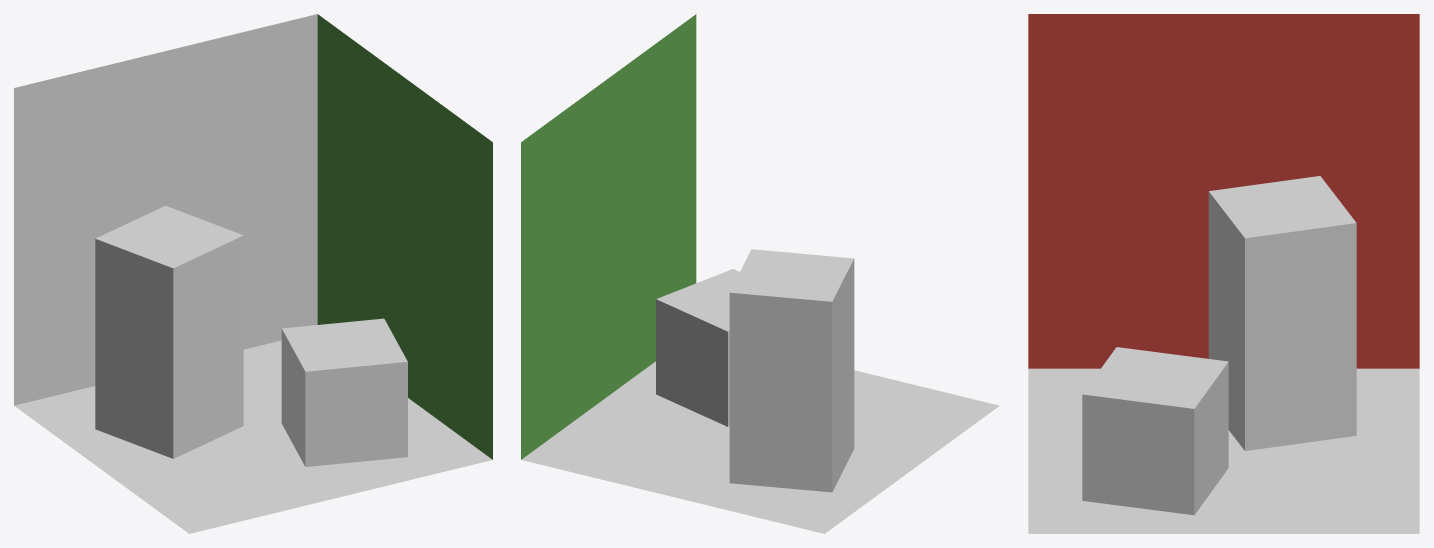
Rendered from cornell.glb.
3 views of the same model, side by side, from view 1: azimuth 30°, elevation 25°; view 2: azimuth 150°, elevation 25°; view 3: azimuth 270°, elevation 25° (orthographic). The views are drawn at different scales.
Parts seen in each view (by area): view 1: cornell; view 2: cornell; view 3: cornell.
Part boxes in pixels (x1=…): cornell: x1=14, y1=14, x2=492, y2=533; cornell: x1=521, y1=14, x2=999, y2=533; cornell: x1=1028, y1=14, x2=1419, y2=533.
Bounding box in the file's own units: 2 × 2 × 2.
